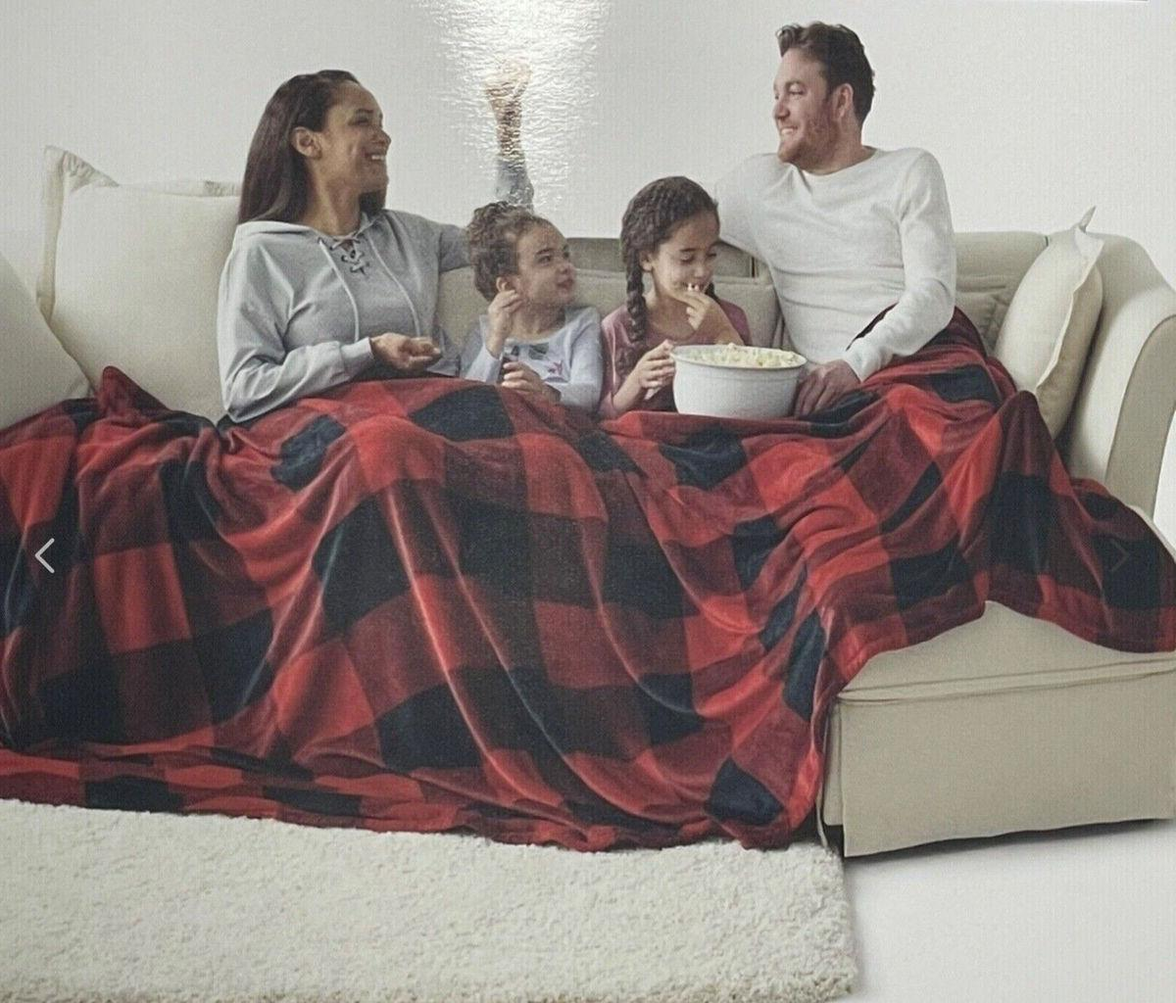blanket: (0, 294, 1176, 856)
long sleeve shirt: (699, 137, 958, 387), (601, 293, 753, 416), (458, 295, 605, 417)
sweater: (214, 141, 533, 402)
